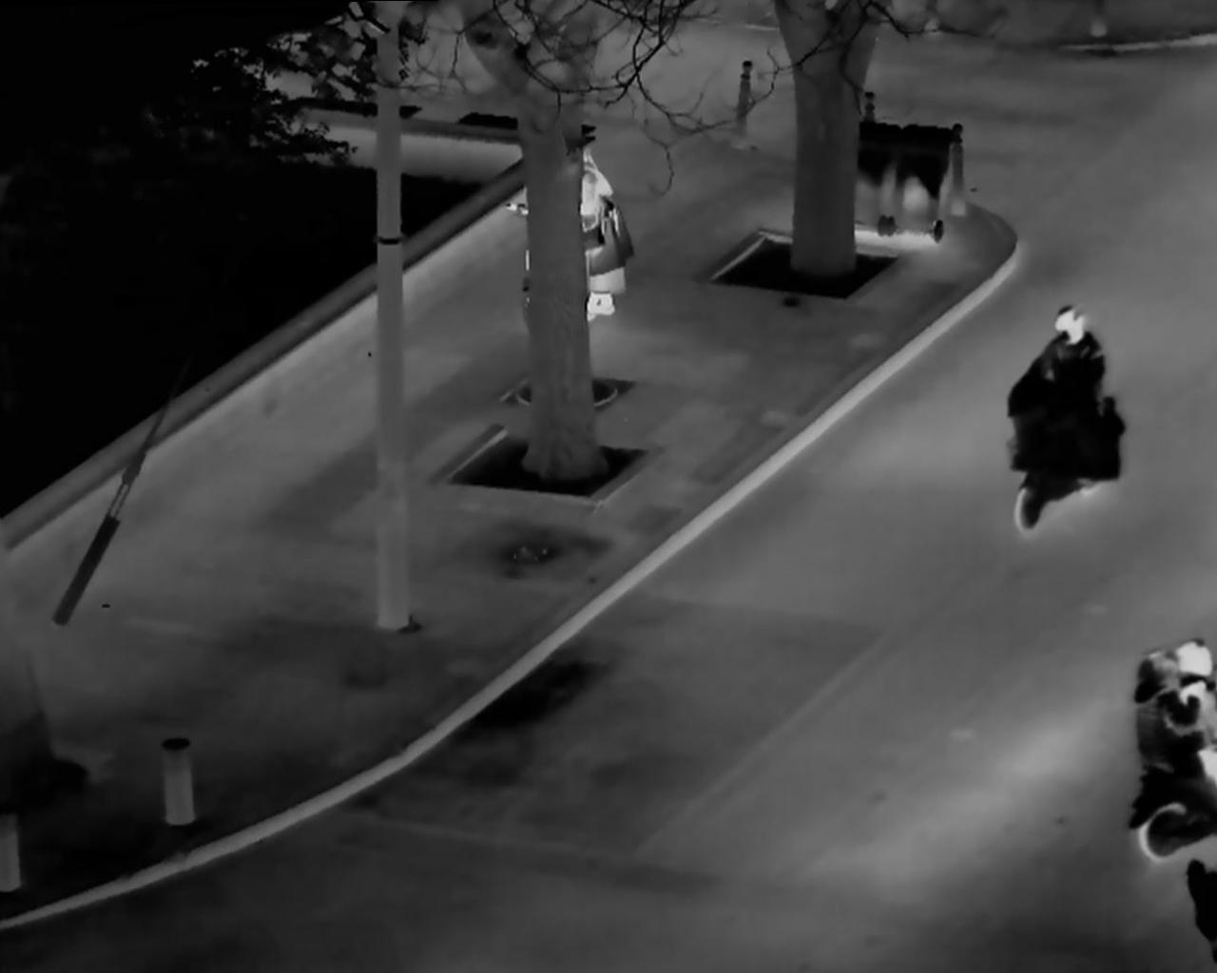person: (1025, 275, 1130, 531), (1137, 619, 1214, 855), (570, 141, 647, 331)
